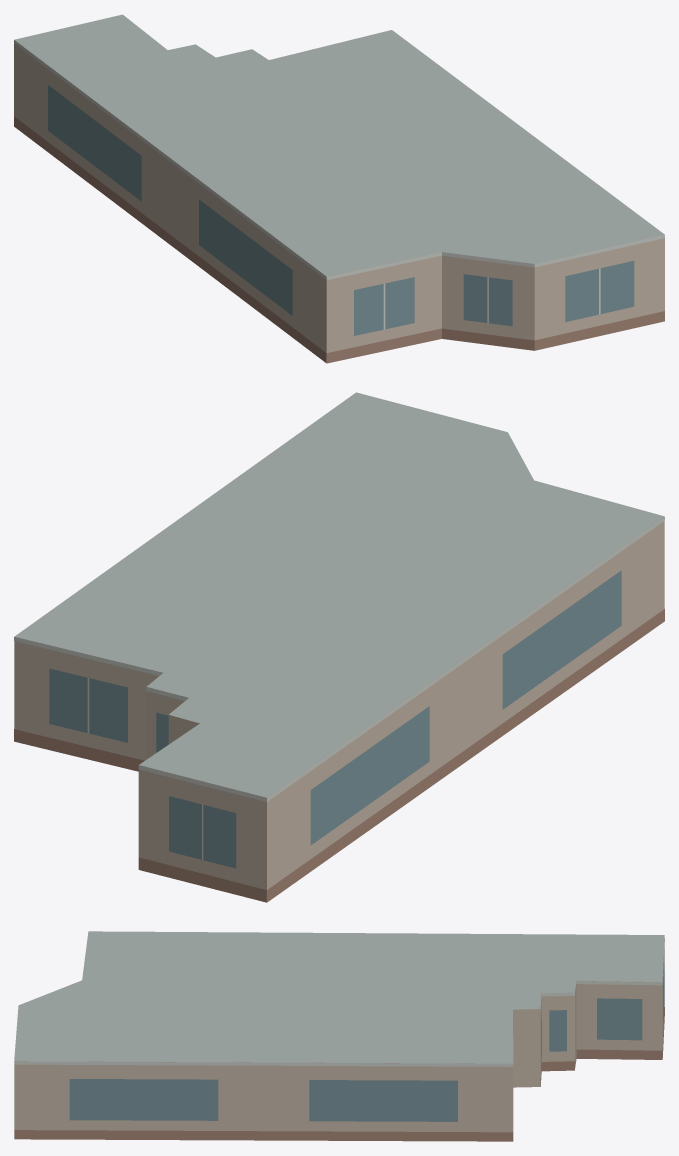
File: survey-upis-32597931.glb
The picture shows the model from 3 angles, top to bottom: view 1: azimuth 30°, elevation 25°; view 2: azimuth 150°, elevation 25°; view 3: azimuth 270°, elevation 25°; orthographic projection. The views are drawn at different scales.
Visible parts, largest first — view 1: survey-upis-32597931.tmp; view 2: survey-upis-32597931.tmp; view 3: survey-upis-32597931.tmp.
Boxes of the visible parts, x1=… form: survey-upis-32597931.tmp: x1=14, y1=14, x2=664, y2=363; survey-upis-32597931.tmp: x1=14, y1=392, x2=664, y2=902; survey-upis-32597931.tmp: x1=14, y1=931, x2=664, y2=1141.
Size of the model in its own units: 11.11 by 3.05 by 23.1.
